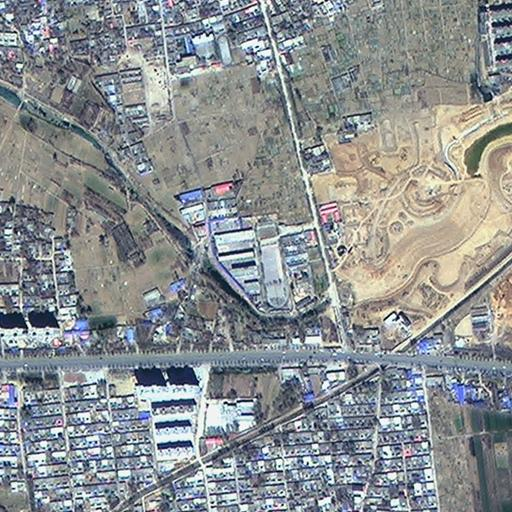school: (203, 214, 325, 320)
